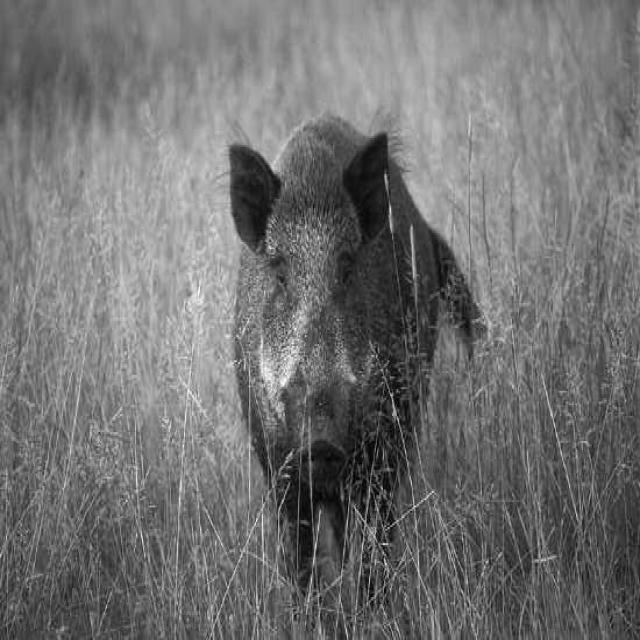boar: (229, 115, 481, 591)
